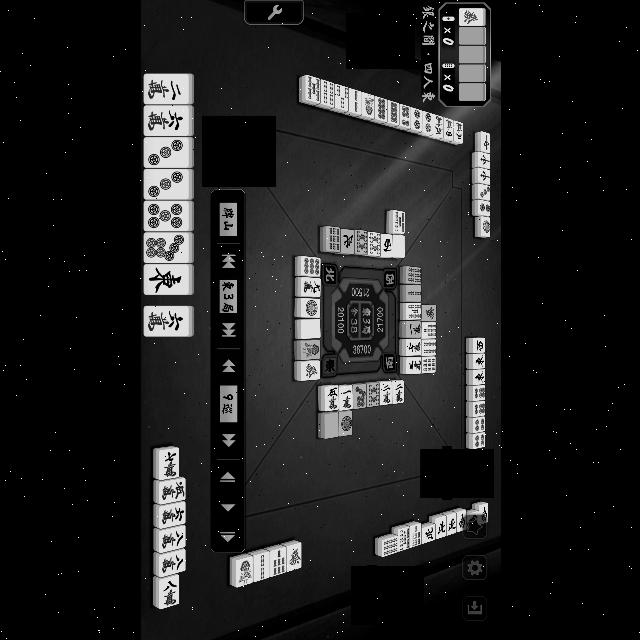1m: (400, 320, 422, 338), (337, 384, 351, 411)
1p: (338, 410, 354, 436), (300, 298, 320, 318), (474, 217, 490, 237)
1s: (228, 554, 252, 588), (252, 548, 268, 582), (358, 91, 374, 122), (300, 341, 320, 359)
2m: (142, 73, 188, 105), (378, 380, 392, 406), (391, 380, 403, 404)
2p: (420, 110, 432, 136), (410, 108, 422, 134), (472, 202, 491, 216)
2s: (398, 285, 424, 303), (346, 88, 360, 116)
3m: (401, 357, 421, 375), (452, 122, 462, 144)
3p: (144, 138, 188, 168), (142, 170, 188, 198), (472, 184, 490, 200)
3s: (332, 85, 348, 114)
4m: (442, 118, 454, 142)
4p: (462, 417, 486, 433), (463, 432, 487, 448)
4s: (316, 80, 334, 110), (421, 340, 437, 356)
5m: (158, 479, 184, 503), (320, 386, 338, 410), (431, 115, 443, 139)
5p: (143, 202, 187, 230)
5s: (296, 74, 318, 108), (387, 208, 405, 234), (396, 523, 410, 553), (400, 302, 420, 320)
6m: (143, 105, 187, 135), (143, 307, 187, 335), (158, 502, 184, 528)
6p: (396, 102, 410, 132), (464, 385, 486, 401), (464, 402, 486, 418)
6s: (376, 534, 396, 556), (400, 267, 422, 285)
7m: (159, 450, 177, 480), (398, 339, 422, 357)
7p: (142, 233, 188, 263), (352, 382, 366, 410)
7s: (270, 544, 284, 578), (409, 522, 421, 550), (419, 322, 435, 340)
8m: (158, 576, 180, 610), (160, 550, 184, 578), (159, 528, 183, 552)
8p: (372, 98, 386, 124), (386, 100, 398, 128)
8s: (354, 230, 366, 256), (366, 382, 378, 408), (367, 233, 378, 257)
9m: (301, 278, 321, 296)
9p: (300, 258, 320, 276)
9s: (320, 224, 340, 253), (420, 357, 434, 373)
chun: (471, 154, 492, 168), (476, 132, 490, 152), (472, 169, 490, 183)
haku: (317, 409, 338, 439), (300, 320, 318, 340)
hatsu: (458, 8, 484, 26), (286, 544, 302, 572), (300, 362, 318, 381), (390, 235, 404, 259), (420, 304, 436, 322)
nan: (455, 510, 465, 532)
pe: (338, 228, 354, 256), (421, 522, 435, 546), (434, 514, 446, 540), (444, 512, 456, 536)
sha: (464, 337, 486, 353), (381, 232, 394, 258)
tou: (143, 264, 187, 294), (464, 354, 486, 370), (466, 372, 486, 384)
